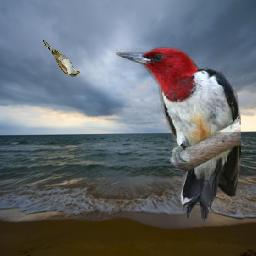Cuckoo: (42, 39, 80, 77)
Woodpecker: (117, 46, 242, 222)
